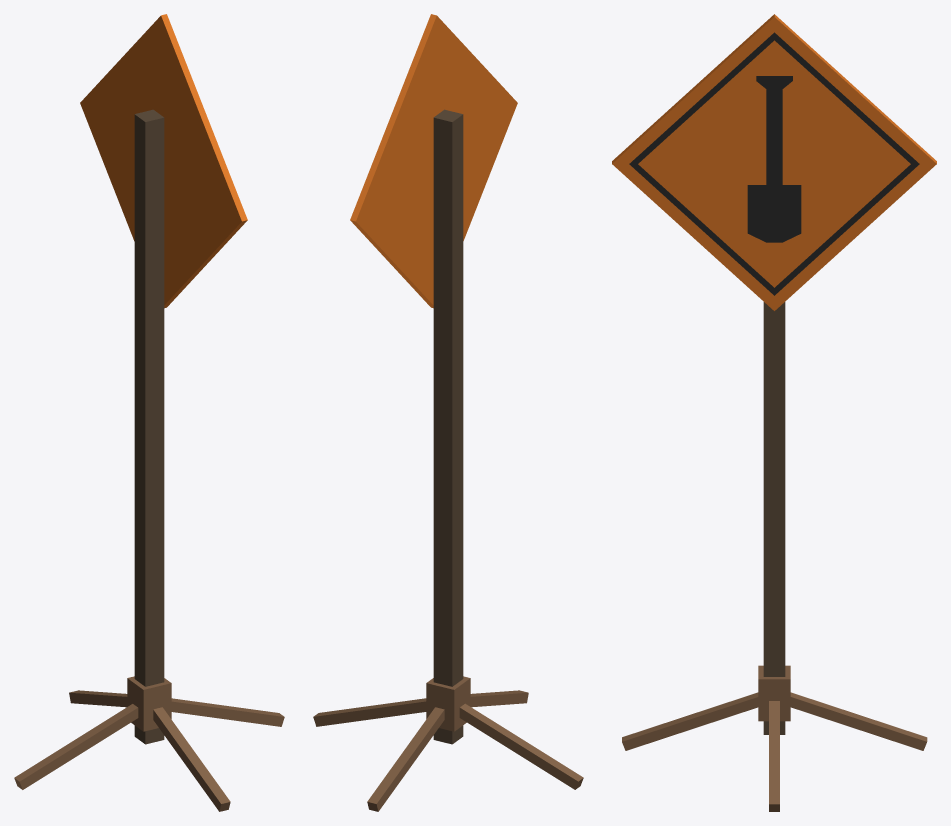
The model's file is SM_construction_sign.gltf.
3 views of the same model, side by side, from view 1: azimuth 30°, elevation 25°; view 2: azimuth 150°, elevation 25°; view 3: azimuth 270°, elevation 25° (orthographic).
Visible parts, largest first — view 1: SM_construction_sign; view 2: SM_construction_sign; view 3: SM_construction_sign.
Part boxes in pixels (<box>): SM_construction_sign: <box>14,14,284,811</box>; SM_construction_sign: <box>313,14,583,811</box>; SM_construction_sign: <box>612,14,936,811</box>.
Size of the model in its own units: 0.8033 by 2.14 by 0.85.
Materials: 1 (1 with a texture image).
